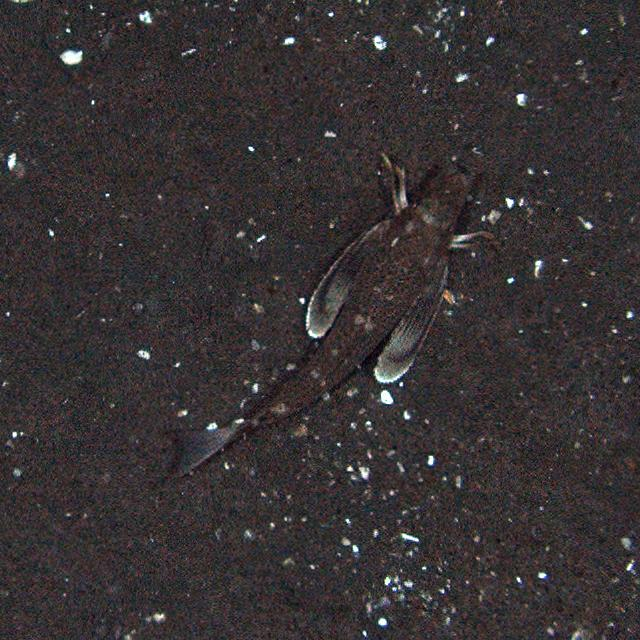roundfish: (160, 154, 496, 484)
